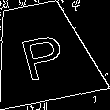P_N: (15, 24, 70, 81)
